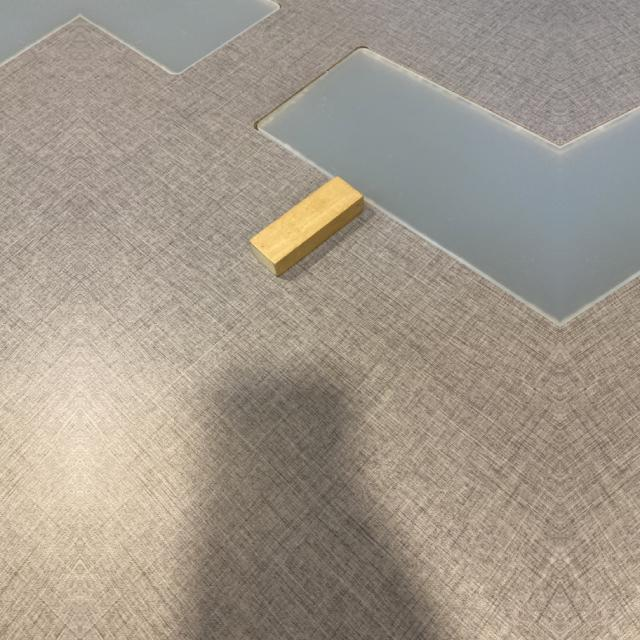jenga: (250, 180, 366, 276)
